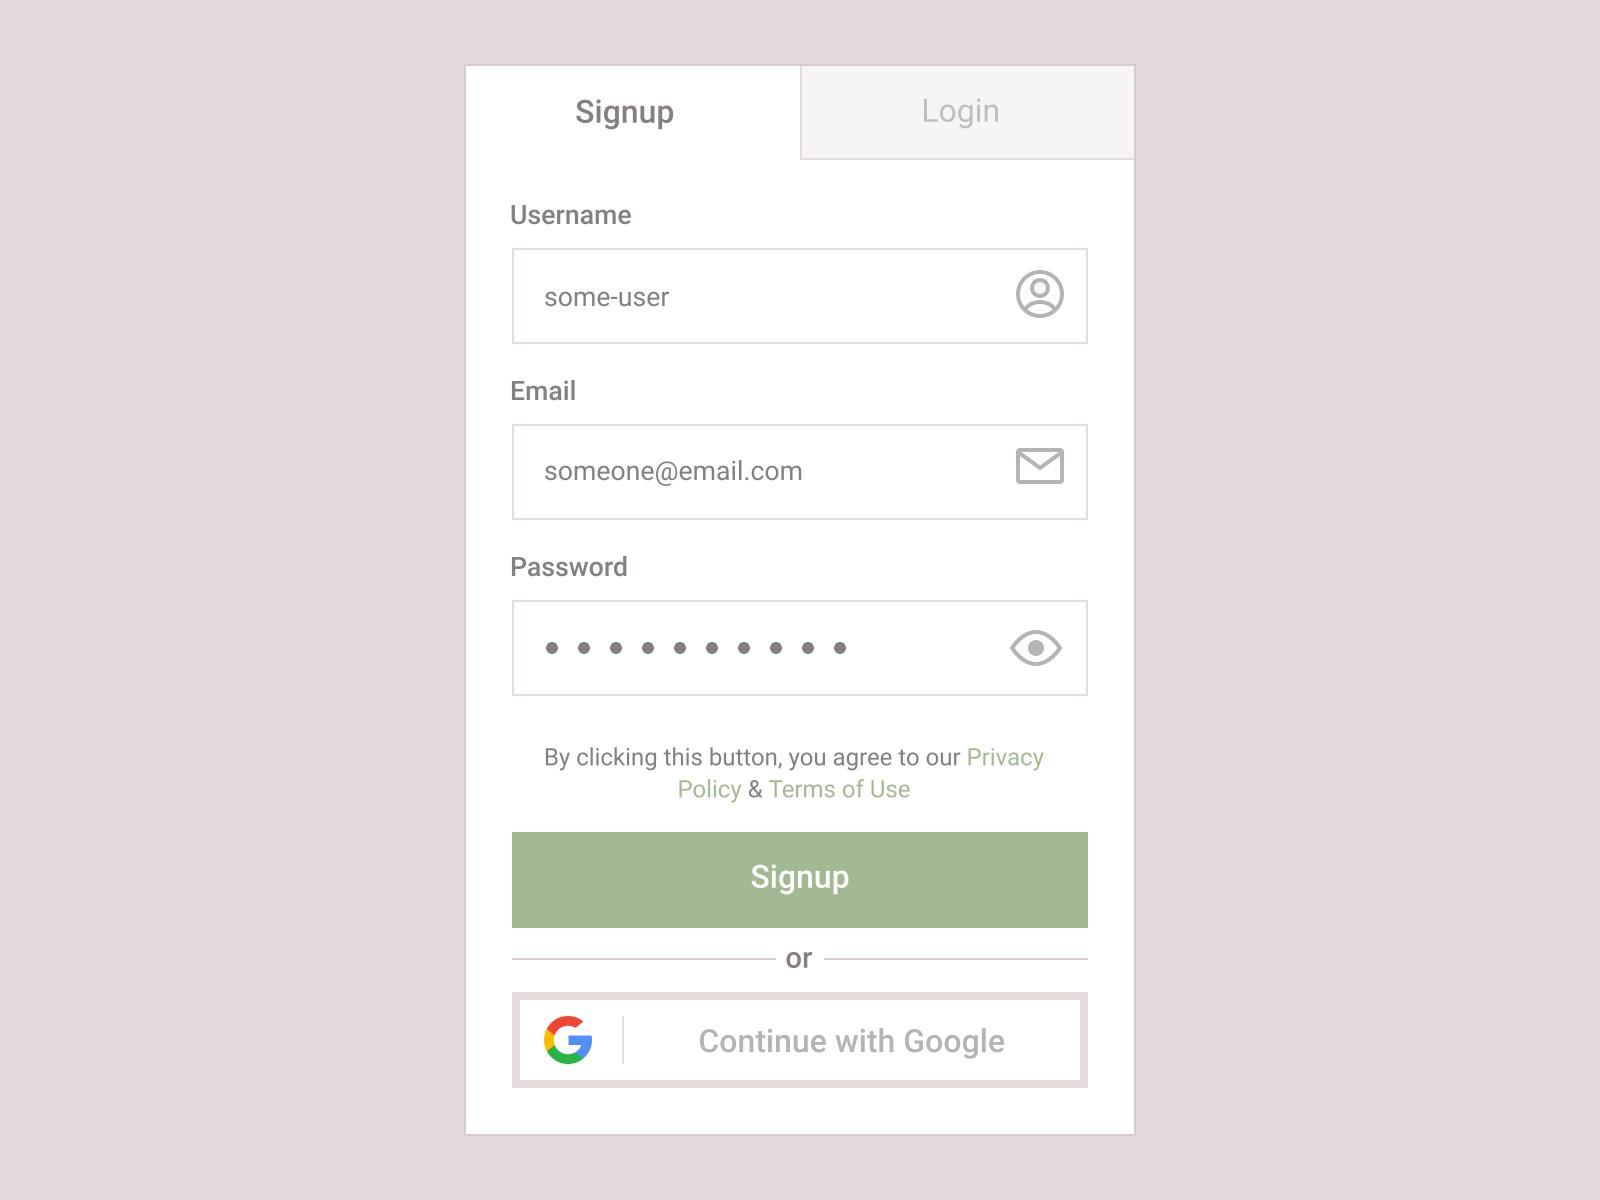button: (511, 833, 1090, 930), (513, 996, 1087, 1084)
icon: (1010, 267, 1065, 318), (1008, 626, 1063, 668), (1015, 445, 1067, 489)
input: (510, 421, 1089, 523), (514, 247, 1094, 348), (511, 599, 1094, 698)
label: (537, 741, 1051, 803), (506, 551, 636, 587), (506, 200, 637, 234), (572, 98, 682, 134), (918, 93, 1002, 131), (505, 371, 581, 405)
